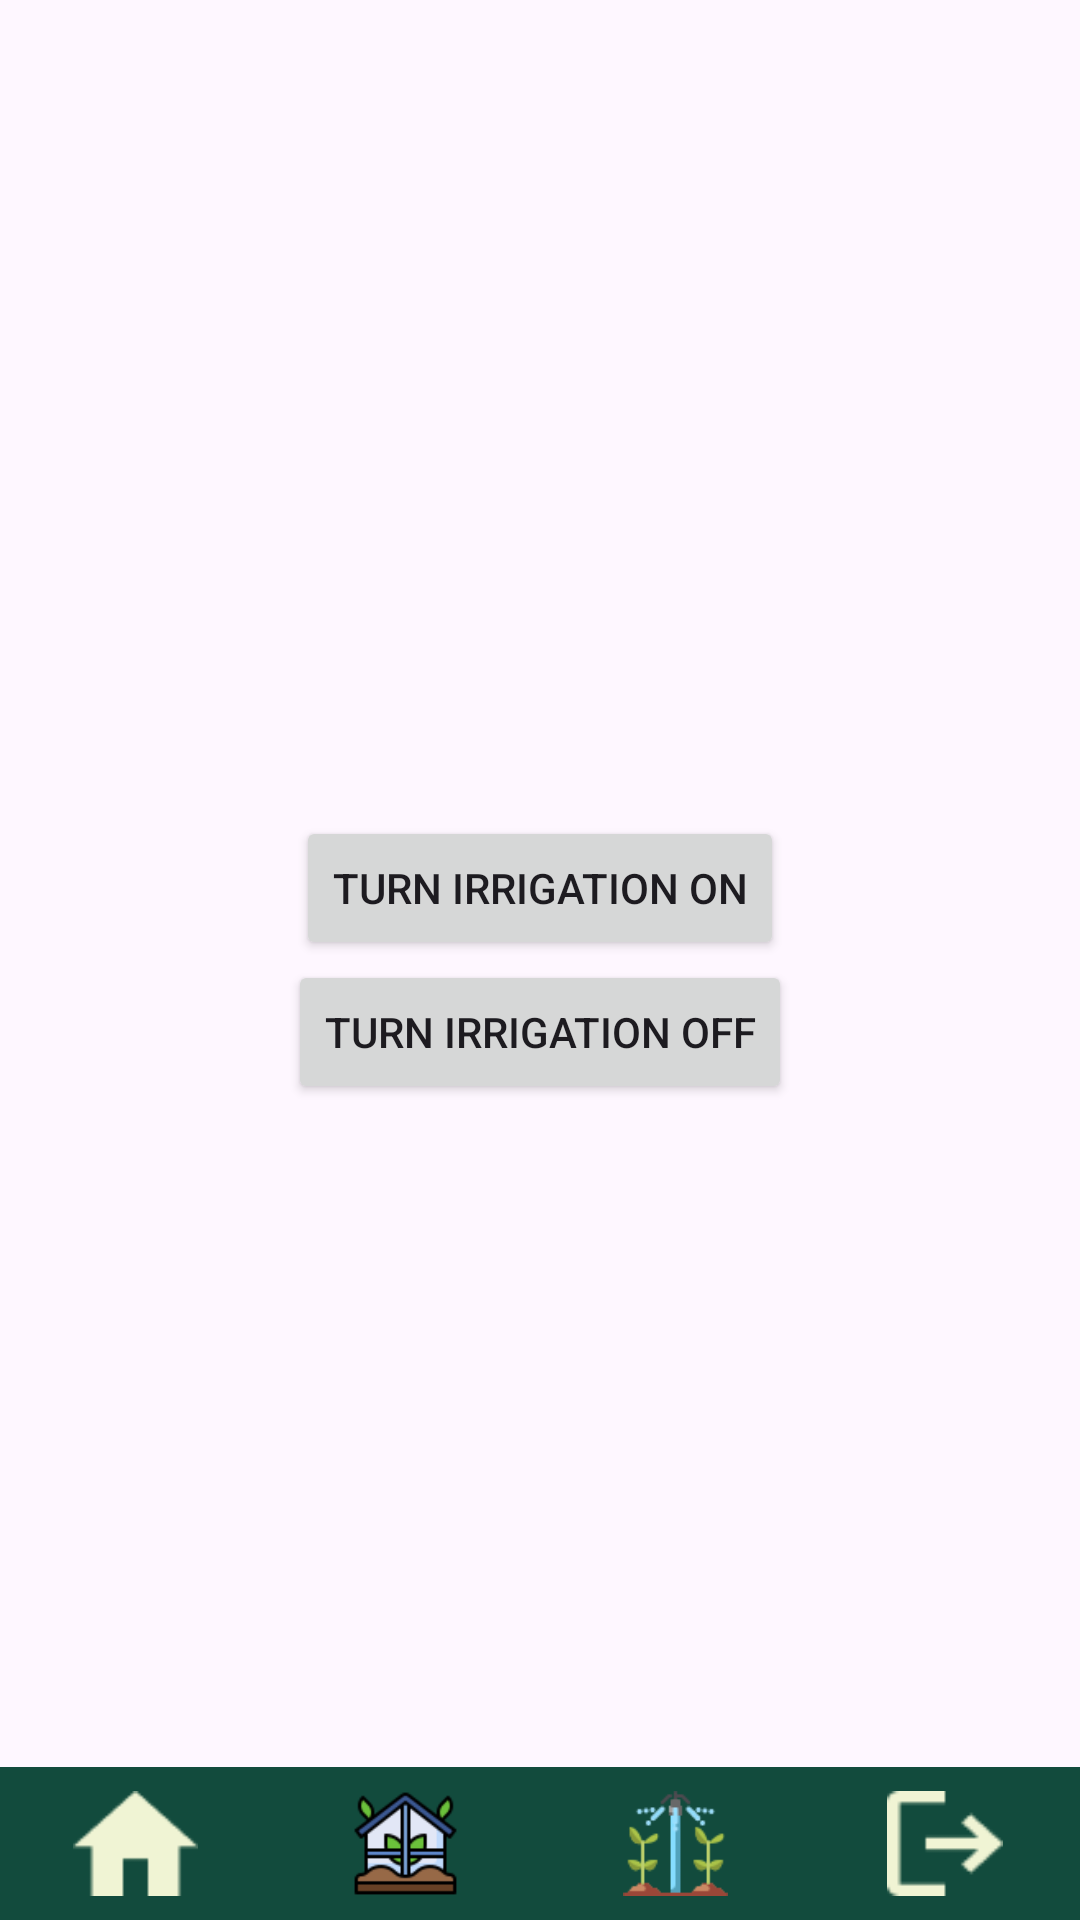

Icon click points for this 1080×1920 phone screenshot, format [x,y]:
Greenhouses: [405,1843]
Home: [135,1843]
Irrigation: [675,1843]
